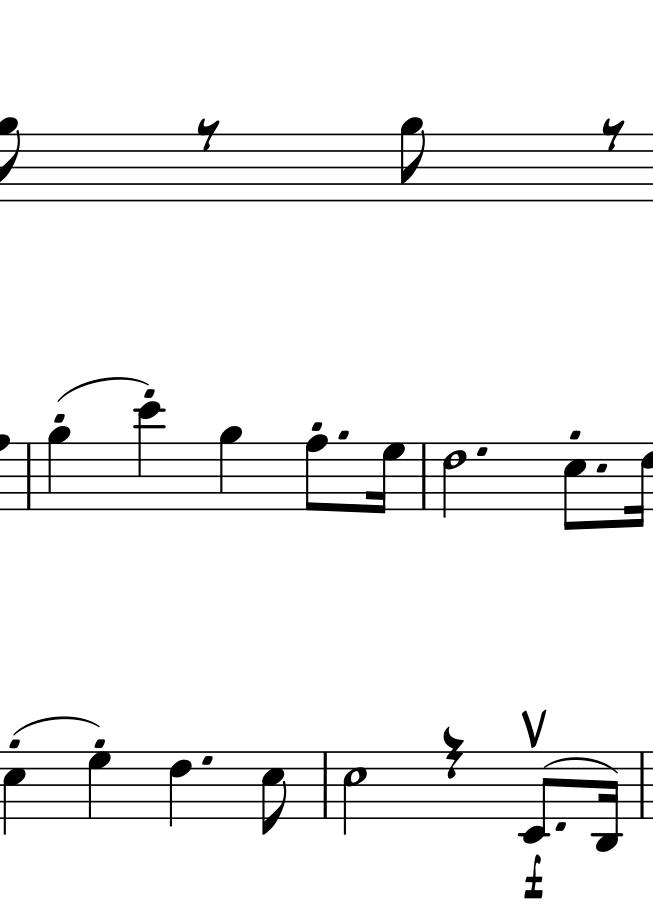16_-3: (591, 750, 620, 855)
16_7: (368, 441, 406, 516)
2_5: (341, 750, 367, 837)
2_6: (441, 441, 466, 518)
4_12: (134, 399, 164, 512)
4_5: (1, 750, 28, 837)
4_6: (167, 750, 192, 831)
4_7: (86, 751, 112, 821)
4_9: (46, 426, 73, 513), (217, 425, 244, 512)
8_-2: (518, 750, 553, 845)
8_5: (561, 441, 588, 533), (259, 750, 287, 836)
8_8: (303, 433, 329, 514)
8_9: (398, 116, 425, 204)
Rests4: (441, 726, 465, 782)
Rests8: (195, 117, 222, 152), (601, 116, 627, 152)
Single_barline: (414, 444, 434, 508), (20, 443, 36, 508), (317, 751, 332, 817)
Slur: (55, 377, 150, 403), (13, 715, 99, 736), (542, 757, 616, 776)
Tremolo_bar: (519, 708, 547, 750)
dot: (551, 819, 569, 835), (198, 754, 218, 768), (472, 445, 491, 457), (593, 459, 607, 471)
f: (521, 854, 545, 902)
